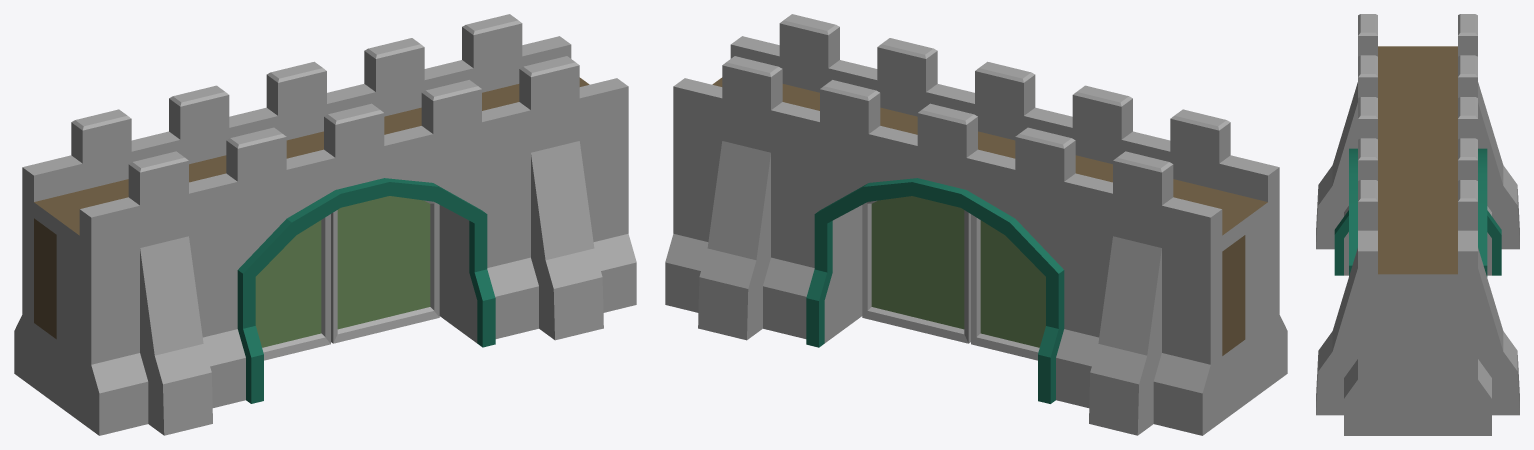
Rendered from wall_1.fbx.
3 views of the same model, side by side, from view 1: azimuth 30°, elevation 25°; view 2: azimuth 150°, elevation 25°; view 3: azimuth 270°, elevation 25° (orthographic). The views are drawn at different scales.
Parts seen in each view (by area): view 1: wall:polySurface1; view 2: wall:polySurface1; view 3: wall:polySurface1.
Part boxes in pixels (bbox=[...]): wall:polySurface1: bbox=[14, 14, 636, 435]; wall:polySurface1: bbox=[665, 14, 1287, 435]; wall:polySurface1: bbox=[1316, 14, 1519, 435].
Size of the model in its own units: 207 by 91.41 by 78.25.
